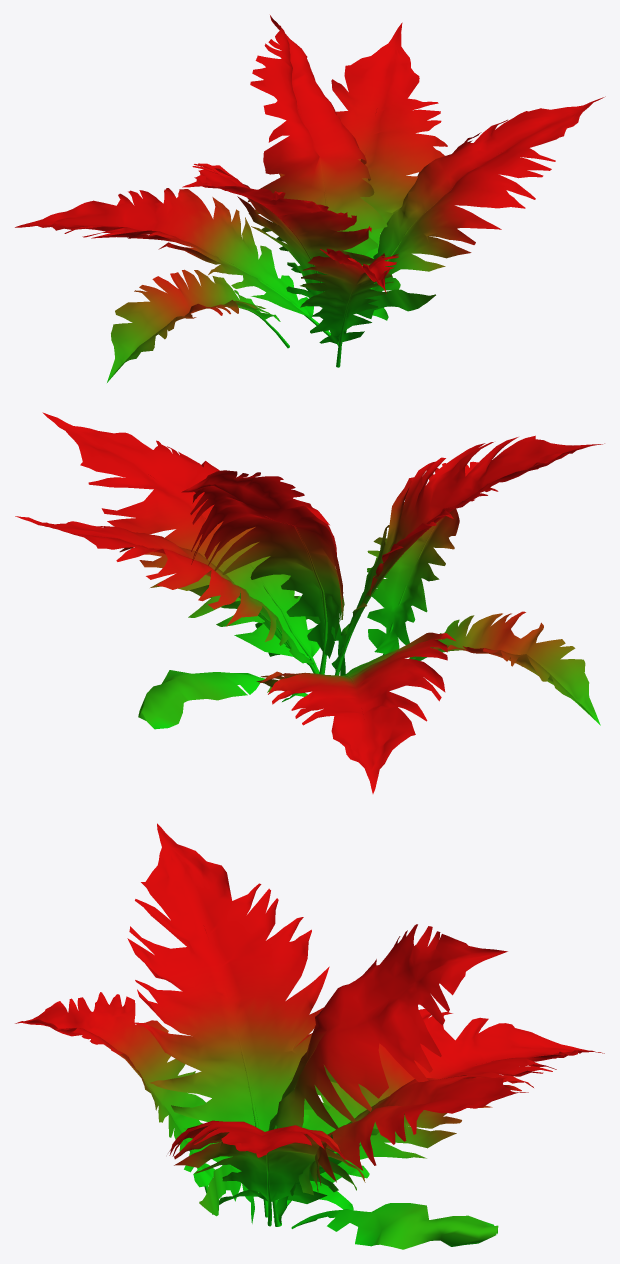
Rendered from Lady Fern_LOD0_Var6_wdvlditia.fbx.
3 renders of one model, top to bottom at view 1: azimuth 30°, elevation 25°; view 2: azimuth 150°, elevation 25°; view 3: azimuth 270°, elevation 25°, orthographic. The views are drawn at different scales.
Parts seen in each view (by area): view 1: _yx3k_Var6_LOD0; view 2: _yx3k_Var6_LOD0; view 3: _yx3k_Var6_LOD0.
Part boxes in pixels (x1,y1,x2,y2): _yx3k_Var6_LOD0: [15, 15, 605, 382]; _yx3k_Var6_LOD0: [15, 412, 604, 793]; _yx3k_Var6_LOD0: [15, 823, 604, 1249].
Size of the model in its own units: 81.45 by 39.34 by 70.08.
